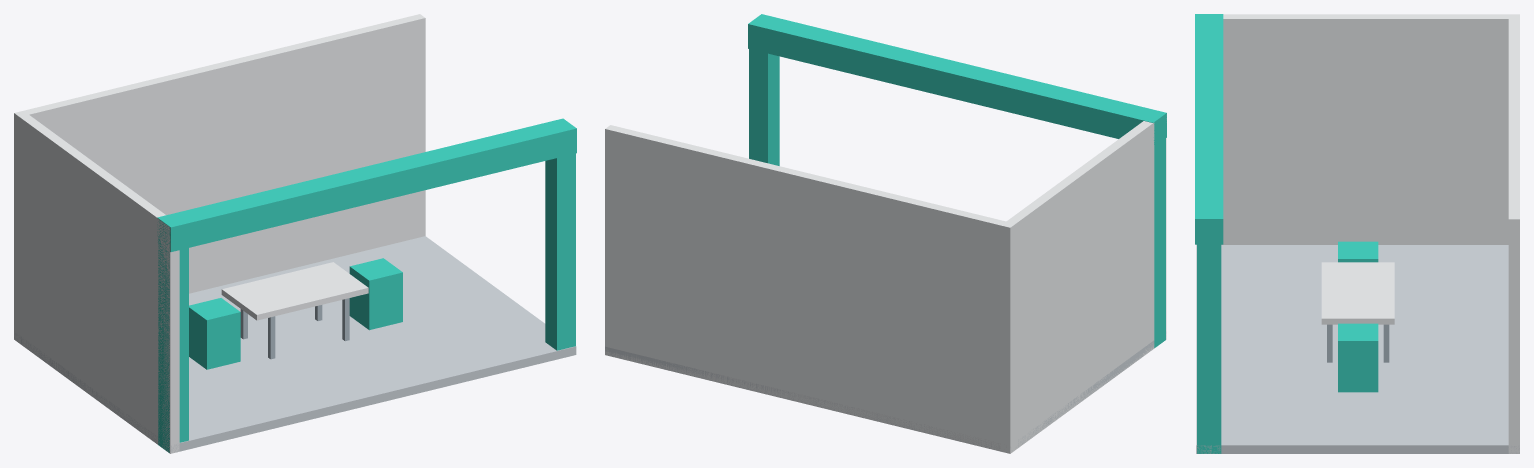
3 views of the same model, side by side, from view 1: azimuth 30°, elevation 25°; view 2: azimuth 150°, elevation 25°; view 3: azimuth 270°, elevation 25° (orthographic). The views are drawn at different scales.
Parts seen in each view (by area): view 1: Exhibition Booth Concept; view 2: Exhibition Booth Concept; view 3: Exhibition Booth Concept.
Boxes of the visible parts, x1,y1,x2,y2 form: Exhibition Booth Concept: [14, 14, 576, 453]; Exhibition Booth Concept: [605, 14, 1166, 453]; Exhibition Booth Concept: [1195, 14, 1519, 453].
Size of the model in its own units: 6 by 3.2 by 4.02.
